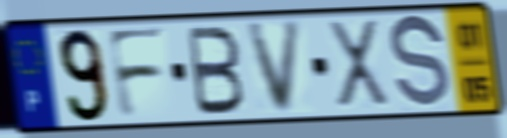9: (55, 25, 112, 125)
B: (185, 24, 248, 118)
F: (104, 25, 168, 122)
S: (387, 11, 453, 115)
V: (244, 17, 306, 118)
X: (324, 17, 393, 111)
